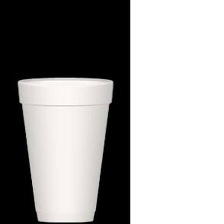paper_cup: (11, 72, 118, 224)
